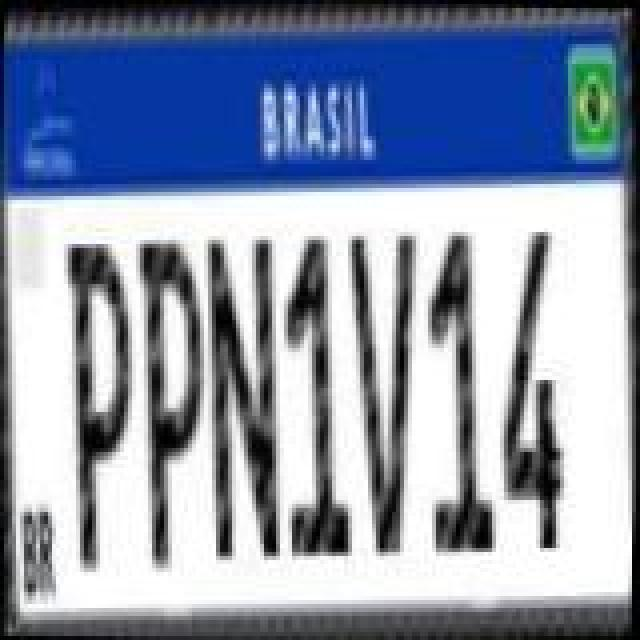1: (272, 226, 360, 562), (416, 220, 504, 556)
4: (490, 222, 574, 554)
N: (198, 230, 290, 562)
P: (52, 234, 148, 582), (128, 234, 216, 574)
V: (344, 224, 432, 560)
